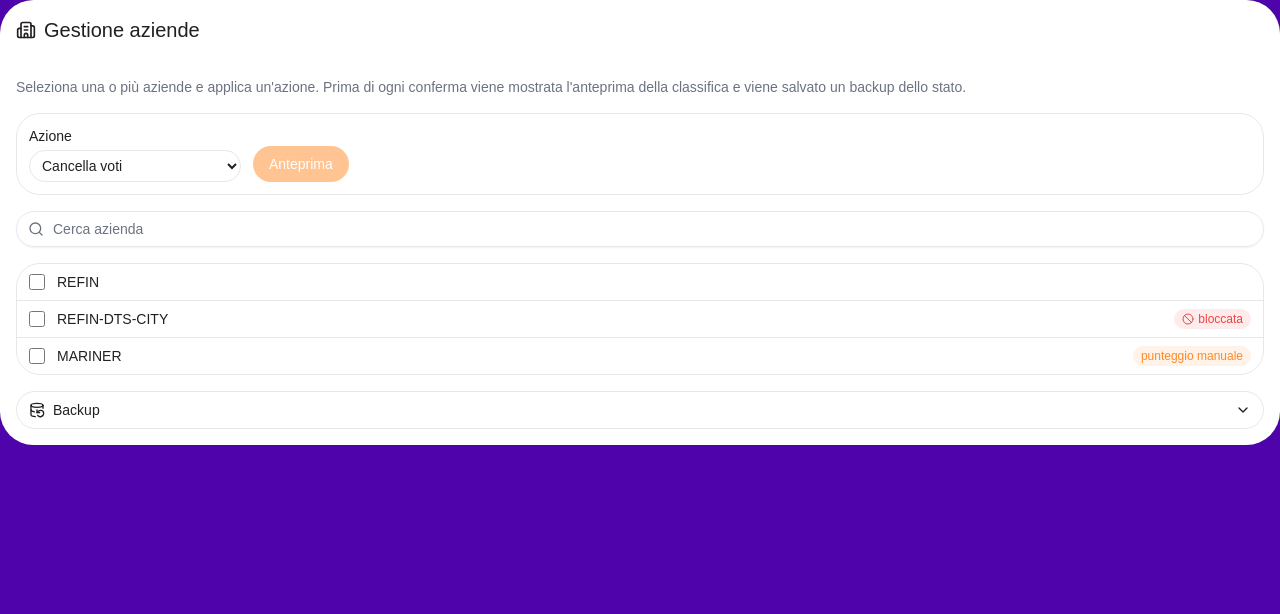
CompanyActionsCard › la sezione Backup elenca i backup quando aperta
Expected: the text "REFIN" is shown, [57,274,99,290]
Click the button "Backup" at (76, 410), box [17,392,1263,428]
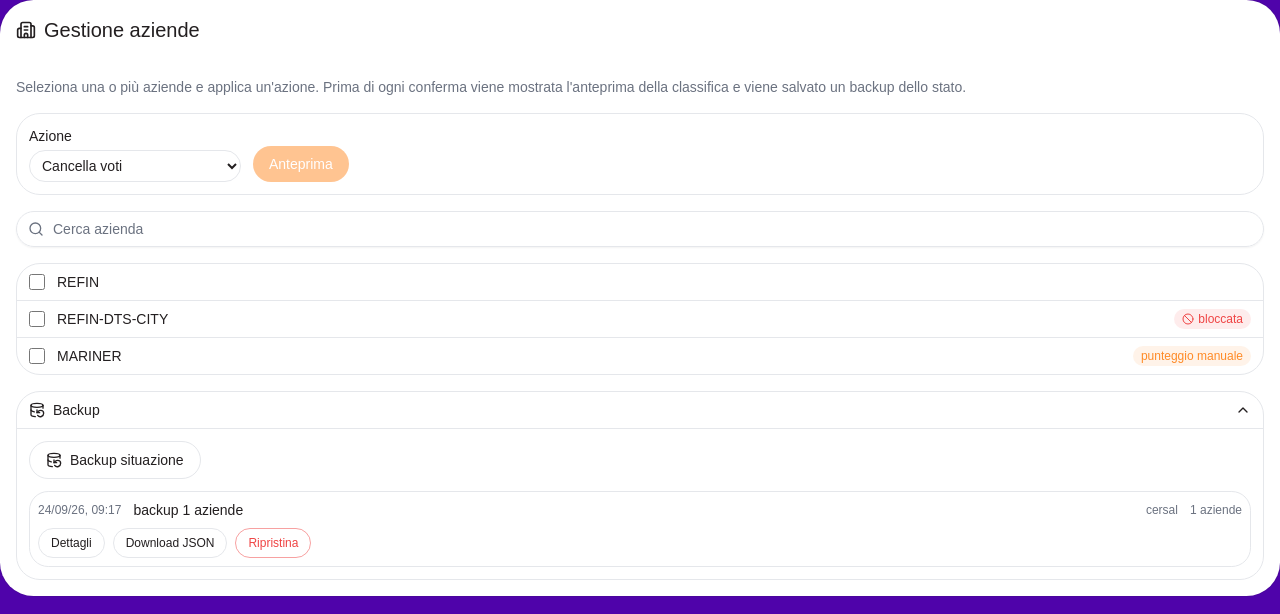
Now the text "backup 1 aziende" is shown, box [133,502,243,518]
